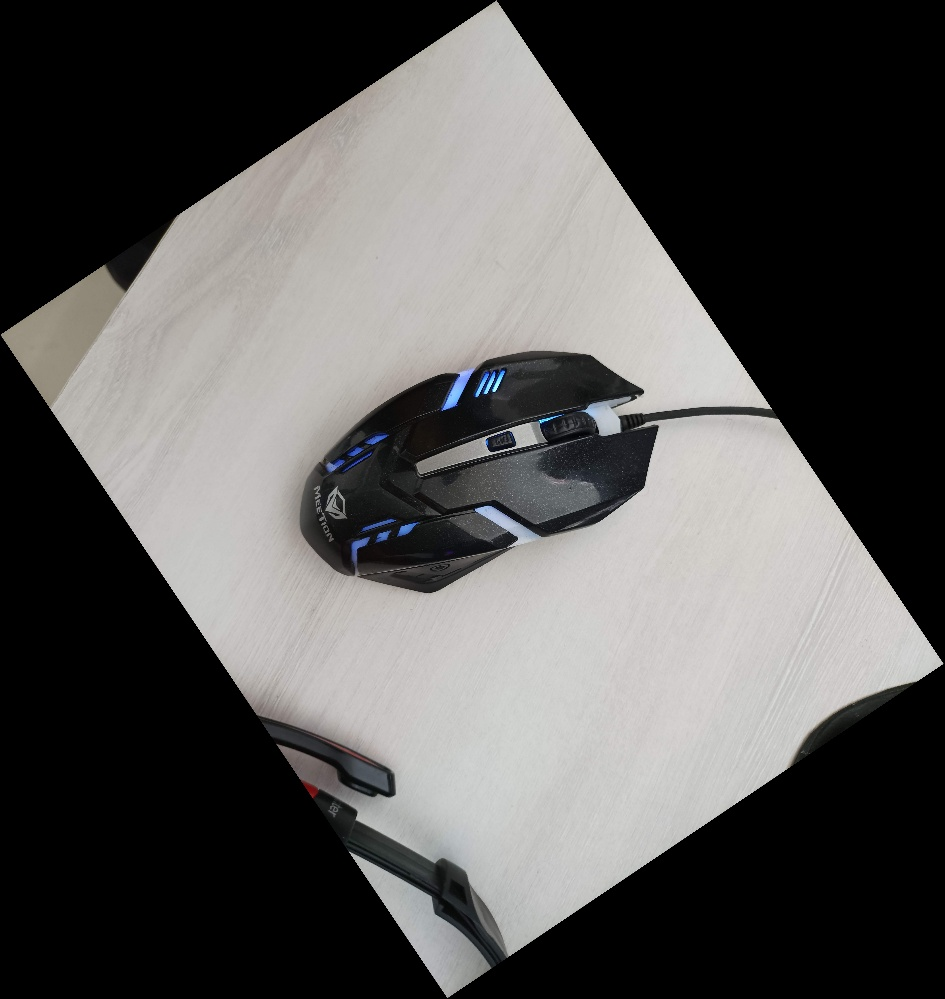mouse: (290, 341, 672, 598)
